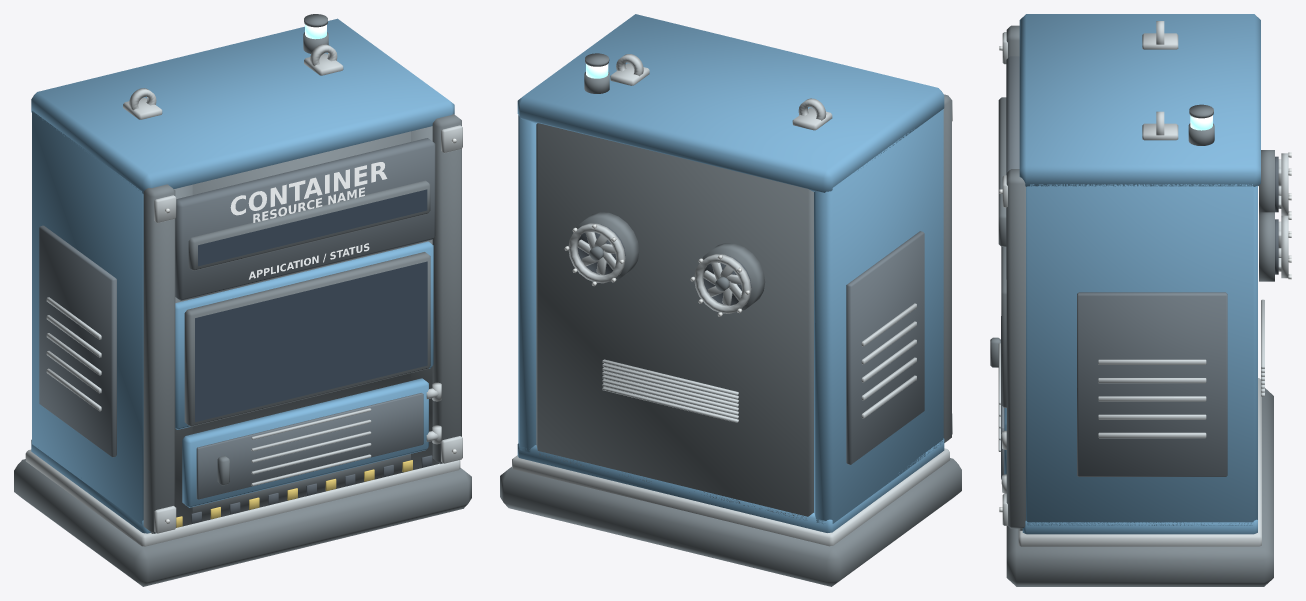
Rendered from container_machine_standard.glb.
The picture shows the model from 3 angles, left to right: view 1: azimuth 30°, elevation 25°; view 2: azimuth 150°, elevation 25°; view 3: azimuth 270°, elevation 25°; orthographic projection. The views are drawn at different scales.
Parts seen in each view (by area): view 1: Roof_blue, LiveViewSurface_glass, SideWall_blue, CornerPost_frame, Skid_frame, FrontHeader_graphite, SideServicePanel_graphite, DoorMoving_Inset_graphite, DoorMoving_Panel_blue, SkidDeck_steel, LiveViewSurfaceFrame_frame, ResourceNameSurface_glass (+15 smaller); view 2: BackWall_frame, Roof_blue, SideWall_blue, Skid_frame, SideServicePanel_graphite, SkidDeck_steel, KickPlate_blue, RearFan_steel, RearVent_steel, CornerPost_frame, RearFan_frame, SideLouver_steel (+3 smaller); view 3: SideWall_blue, Roof_blue, SideServicePanel_graphite, Skid_frame, CornerPost_frame, SkidDeck_steel, SideLouver_steel, KickPlate_blue, RearFan_frame, FrontHeader_graphite, RearFan_steel, ResourceNameSurfaceFrame_frame (+6 smaller).
Part boxes in pixels (left/top/right/bottom): Roof_blue: left=31, top=18, right=454, bottom=193; LiveViewSurface_glass: left=195, top=261, right=427, bottom=422; SideWall_blue: left=32, top=111, right=143, bottom=524; CornerPost_frame: left=143, top=114, right=461, bottom=533; Skid_frame: left=14, top=459, right=471, bottom=586; FrontHeader_graphite: left=175, top=138, right=435, bottom=300; SideServicePanel_graphite: left=39, top=225, right=116, bottom=457; DoorMoving_Inset_graphite: left=196, top=393, right=423, bottom=499; DoorMoving_Panel_blue: left=182, top=378, right=428, bottom=507; SkidDeck_steel: left=25, top=449, right=460, bottom=546; LiveViewSurfaceFrame_frame: left=184, top=252, right=430, bottom=426; ResourceNameSurface_glass: left=198, top=189, right=427, bottom=266; BackWall_frame: left=536, top=123, right=813, bottom=519; Roof_blue: left=517, top=14, right=944, bottom=192; SideWall_blue: left=518, top=109, right=943, bottom=523; Skid_frame: left=500, top=458, right=961, bottom=586; SideServicePanel_graphite: left=846, top=231, right=924, bottom=464; SkidDeck_steel: left=512, top=448, right=949, bottom=546; KickPlate_blue: left=517, top=438, right=944, bottom=532; RearFan_steel: left=568, top=223, right=751, bottom=313; RearVent_steel: left=602, top=359, right=738, bottom=422; CornerPost_frame: left=943, top=94, right=951, bottom=442; RearFan_frame: left=576, top=212, right=765, bottom=312; SideLouver_steel: left=861, top=303, right=916, bottom=418; SideWall_blue: left=1026, top=184, right=1257, bottom=525; Roof_blue: left=1019, top=14, right=1260, bottom=186; SideServicePanel_graphite: left=1077, top=292, right=1227, bottom=476; Skid_frame: left=1006, top=388, right=1273, bottom=586; CornerPost_frame: left=1006, top=25, right=1025, bottom=528; SkidDeck_steel: left=1018, top=378, right=1261, bottom=546; SideLouver_steel: left=1098, top=359, right=1206, bottom=438; KickPlate_blue: left=1022, top=519, right=1257, bottom=534; RearFan_frame: left=1259, top=150, right=1274, bottom=281; FrontHeader_graphite: left=1006, top=56, right=1019, bottom=279; RearFan_steel: left=1278, top=153, right=1288, bottom=278; ResourceNameSurfaceFrame_frame: left=998, top=97, right=1006, bottom=246.
Bounding box in the file's own units: 2 × 2.48 × 1.51.
